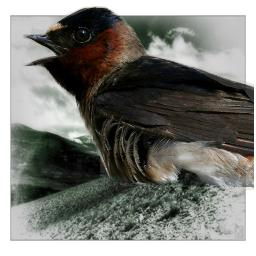Swallow: (21, 6, 254, 190)
